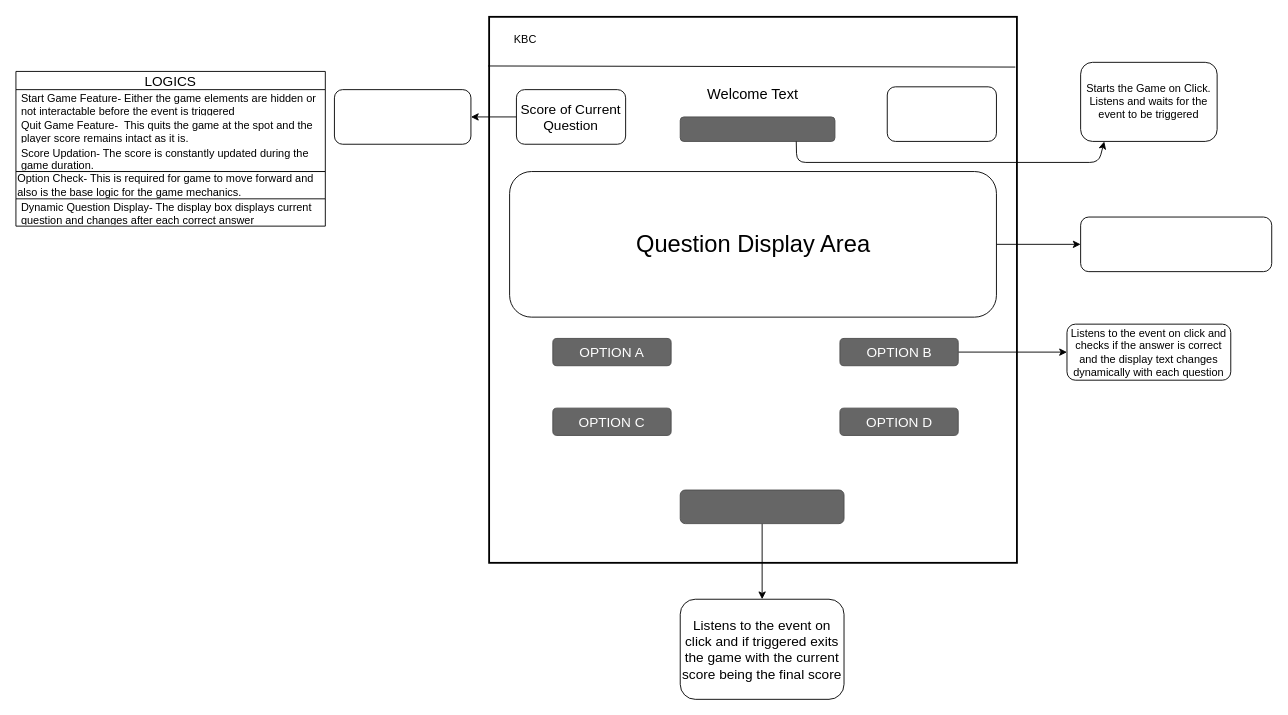
Image size: 1288x715. Some labels were removed from this diagram. Here are the shapes that lost their labels. From the top down, the centre of each, then its label:
(x=402, y=116): Changes Dynamically as score for each Question is different
(x=757, y=128): START GAME
(x=941, y=113): Total score
(x=1176, y=244): Display Zone for all the questions changes after a succesfull answer
(x=761, y=506): QUIT
